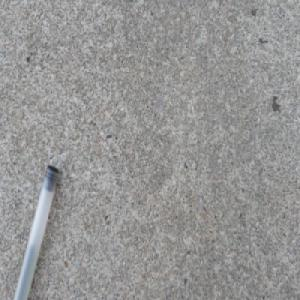Pen: (11, 163, 61, 300)
